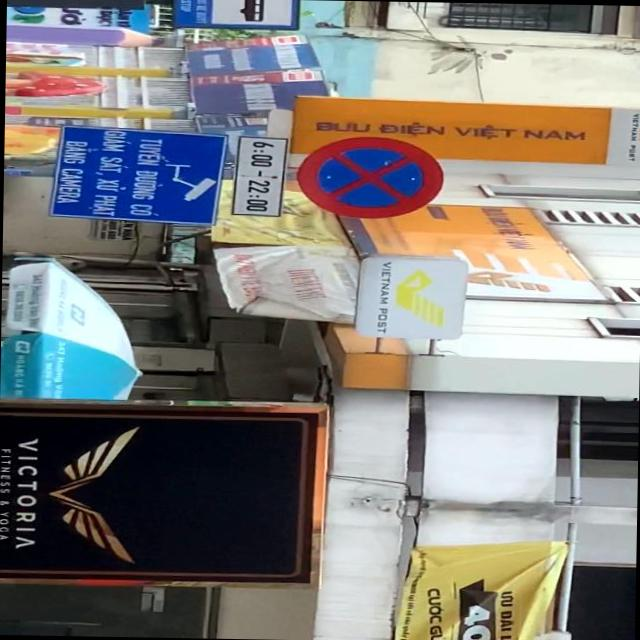P-130: (296, 138, 442, 220)
